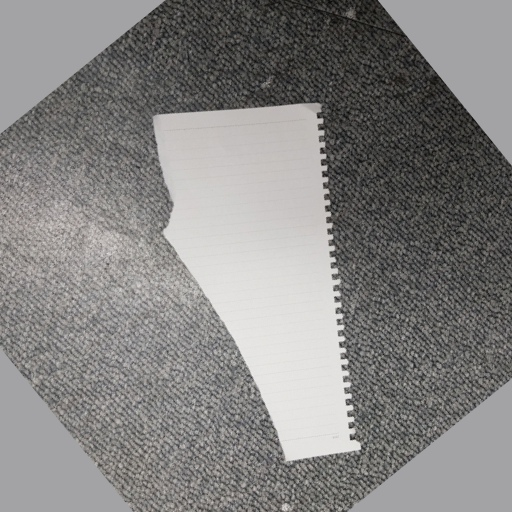Paper_2: (145, 105, 385, 464)
